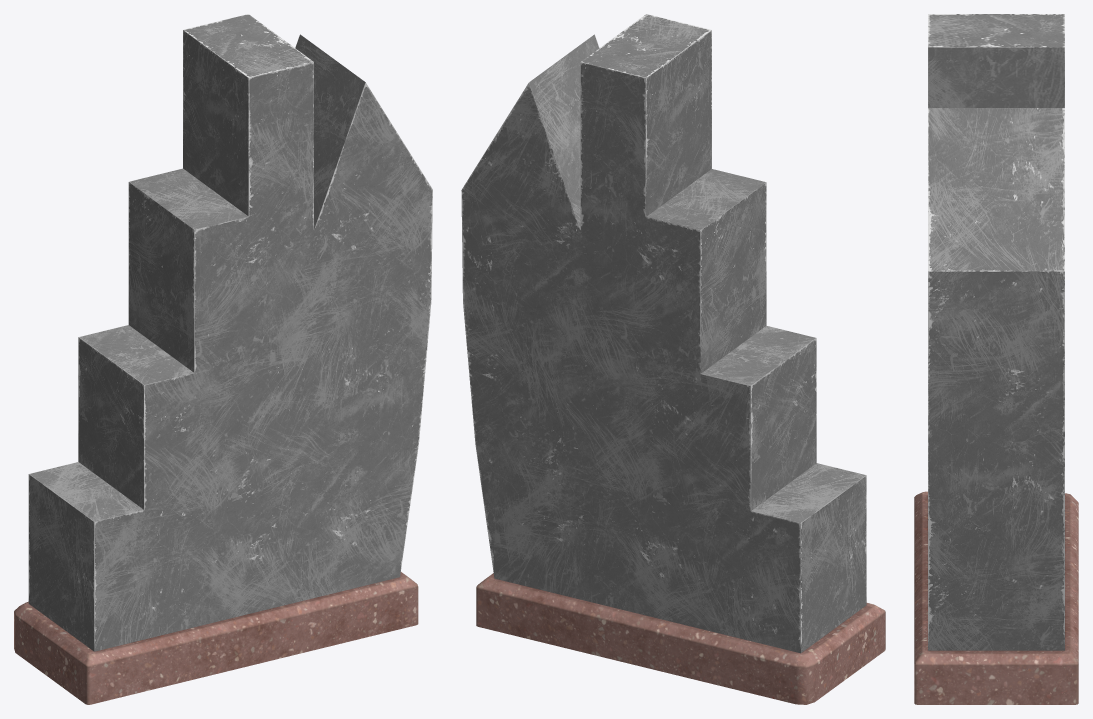
The model's file is KrefeAekyad.glb.
3 renders of one model, left to right at view 1: azimuth 30°, elevation 25°; view 2: azimuth 150°, elevation 25°; view 3: azimuth 270°, elevation 25°, orthographic. The views are drawn at different scales.
Visible parts, largest first — view 1: SM_KrefeAekyad; view 2: SM_KrefeAekyad; view 3: SM_KrefeAekyad.
Part boxes in pixels (x1=…): SM_KrefeAekyad: x1=14, y1=14, x2=432, y2=704; SM_KrefeAekyad: x1=461, y1=14, x2=885, y2=704; SM_KrefeAekyad: x1=914, y1=14, x2=1078, y2=704.
Size of the model in its own units: 1.57 by 2.48 by 0.61.
Materials: 1 (1 with a texture image).
